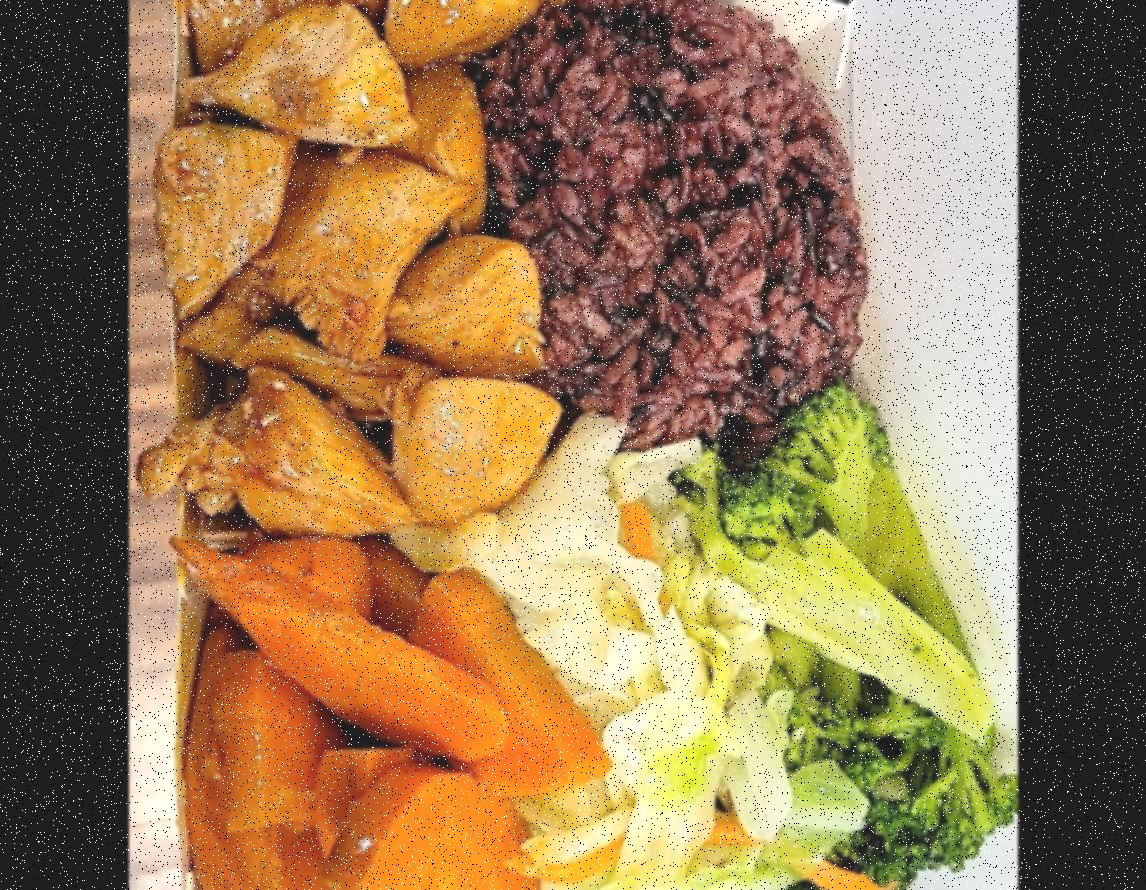box: (159, 0, 915, 890)
purple rice: (509, 0, 867, 456)
side dish: (700, 396, 1004, 890), (178, 535, 589, 890), (504, 418, 785, 890)
spicy chicken: (161, 0, 556, 524)
